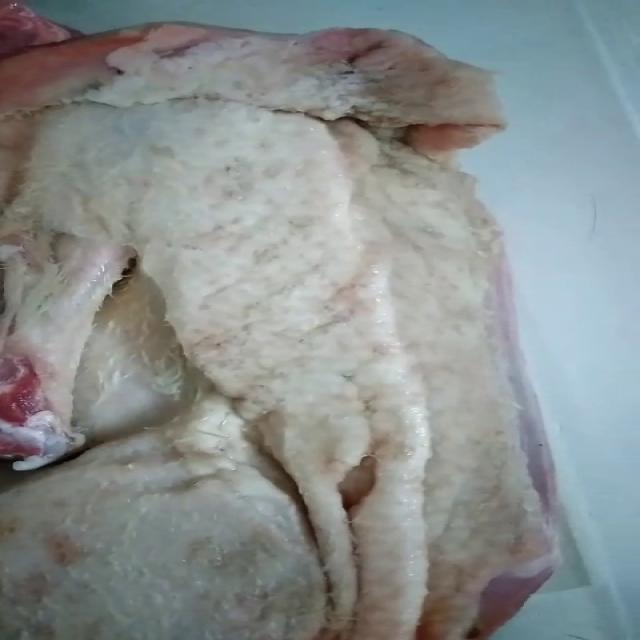chicken: (0, 0, 572, 640)
